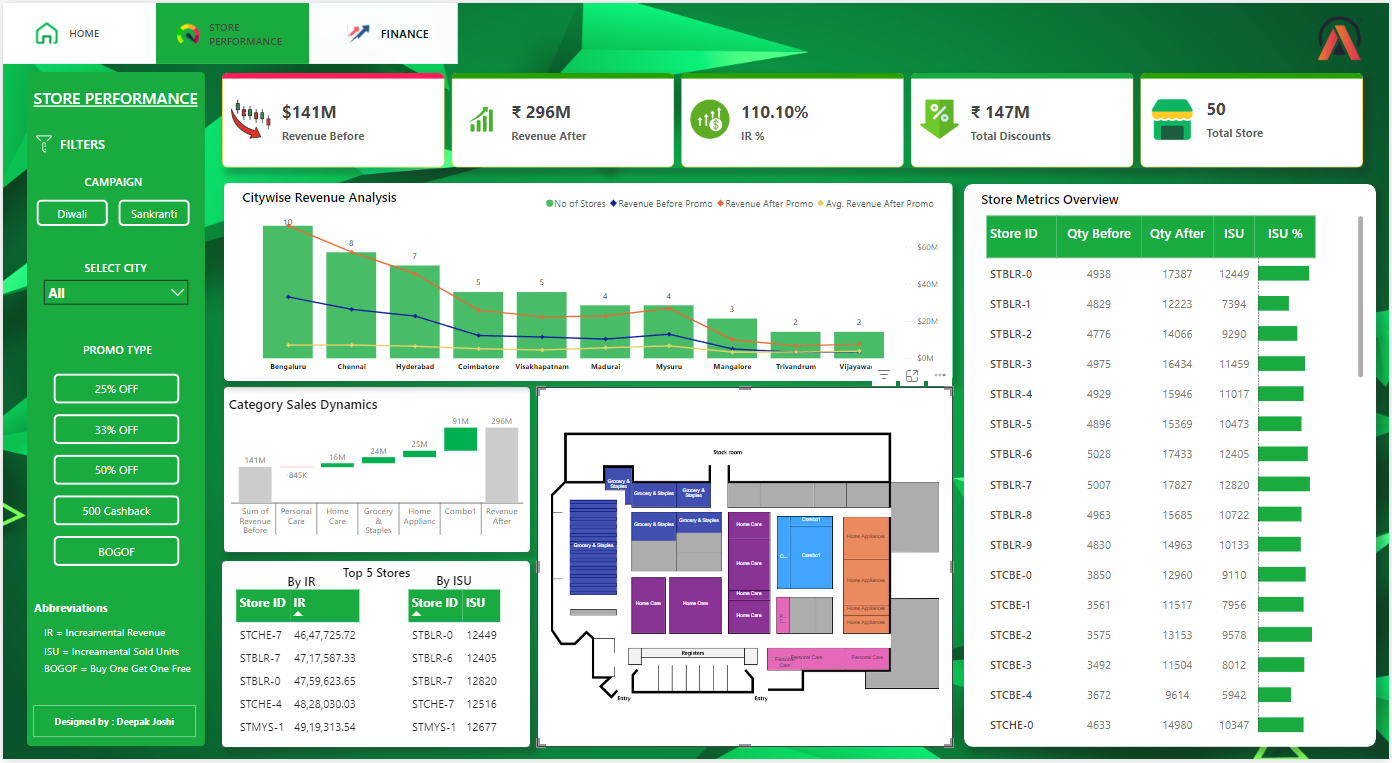

The page's visual inventory and layout, read from the dashboard file:
{"tool":"powerbi","page":{"name":"Store Performance","canvas":[1980,1080],"ordinal":1},"visuals":[{"type":"shape","box":[34.4,98.9,254.4,963.3],"z":0},{"type":"shape","box":[316,763,573,298],"z":1000},{"type":"shape","box":[42,352,235,97],"z":2000},{"type":"shape","box":[1378,258,566,804],"z":3000},{"type":"shape","box":[315.7,257.1,1014.3,490],"z":4000},{"type":"shape","box":[44.4,845.7,234.4,34.4],"z":5000},{"type":"shape","box":[39,471,241,355],"z":6000},{"type":"shape","box":[81.1,174.6,71.1,52.8],"z":7000},{"type":"shape","box":[58.2,885.8,217.5,23.5],"z":8000},{"type":"shape","box":[58.2,913.5,218.5,23.2],"z":9000},{"type":"image","box":[39,181.2,39.5,39.6],"z":10000},{"type":"advancedSlicerVisual","fields":{"Values":["fact_events.promo_type"]},"box":[66.5,523.9,190.9,285.5],"z":11000},{"type":"shape","box":[78.1,476.9,170,34.4],"z":12000},{"type":"slicer","title":"SELECT CITY","fields":{"Values":["dim_stores.city"]},"box":[374,449,244,7],"z":13000},{"type":"shape","box":[41.1,238.6,234.5,97.3],"z":14000},{"type":"advancedSlicerVisual","fields":{"Values":["dim_campaigns.campaign_name"]},"box":[43.3,275.8,229.2,48.3],"z":15000},{"type":"shape","box":[72.1,241.4,170,27.1],"z":16000},{"type":"shape","box":[58.3,936.7,219.2,23.3],"z":17000},{"type":"shape","box":[318.3,268.3,260,41.7],"z":18000},{"type":"shape","box":[43.3,1002.5,232.5,45.8],"z":19000},{"type":"lineStackedColumnComboChart","fields":{"Y":["CountNonNull(dim_stores.store_id)"],"Y2":["Sum(fact_events.Revenue Before)","Sum(fact_events.Actual Revenue)","Key Measures.Avg_Actual_Revenue"],"Category":["dim_stores.city"]},"box":[330,271.4,984.3,470],"z":20000},{"type":"cardVisual","title":"Net Sales","fields":{"Data":["Sum(fact_events.Revenue Before)","Sum(fact_events.Actual Revenue)","Key Measures.IR %","Sum(fact_events.Total Discount)","CountNonNull(dim_stores.store_id)"]},"box":[312.9,100,1631.4,135.7],"z":21000},{"type":"pivotTable","fields":{"Rows":["dim_stores.store_id"],"Values":["Sum(fact_events.quantity_sold(before_promo))","Sum(fact_events.Quantity_Sold)","Key Measures.ISU","Key Measures.ISU %"]},"box":[1391.4,300,540,747.1],"z":22000},{"type":"shape","box":[313,772,245,23],"z":23000},{"type":"shape","box":[1355.7,257.1,280,44.3],"z":24000},{"type":"image","box":[1858.6,12.9,102.9,74.3],"z":25000},{"type":"shape","box":[43.1,114.4,235.6,41.2],"z":26000},{"type":"shape","box":[-1.4,0,651.4,87.1],"z":27000},{"type":"actionButton","box":[-1.8,0,220,85.9],"z":28000},{"type":"actionButton","box":[436.1,0,213.9,87.2],"z":29000},{"type":"actionButton","box":[218,0,218.7,87.3],"z":30000},{"type":"SimpleWaterfall","fields":{"category":["dim_products.category"],"measure":["Sum(fact_events.Revenue Before)","Sum(fact_events.Actual Revenue)"]},"box":[313,810,576,237],"z":31000},{"type":"shape","box":[75,364,170,28],"z":32000},{"type":"slicer","fields":{"Values":["dim_stores.city"]},"box":[48,386,226,57],"z":33000},{"type":"shape","box":[899,763,431,297],"z":34000},{"type":"tableEx","fields":{"Values":["dim_stores.store_id","Key Measures.IR"]},"box":[908.6,820,227.1,227.1],"z":35000},{"type":"tableEx","fields":{"Values":["dim_stores.store_id","Key Measures.ISU"]},"box":[1151.4,820,162.9,227.1],"z":36000},{"type":"shape","box":[915.7,795.7,175.7,27.1],"z":37000},{"type":"shape","box":[1151.4,797.1,140,28.6],"z":38000},{"type":"shape","box":[990,768.6,227.1,25.7],"z":39000}]}

Visuals, with their boxes in screenshot pixels (x1, y1, x2, y2), scaled from the page's 1980x1080 canvas onto the 1392x763 screenshot:
shape: [x1=24, y1=70, x2=203, y2=750]
shape: [x1=222, y1=539, x2=625, y2=750]
shape: [x1=30, y1=249, x2=195, y2=317]
shape: [x1=969, y1=182, x2=1367, y2=750]
shape: [x1=222, y1=182, x2=935, y2=528]
shape: [x1=31, y1=597, x2=196, y2=622]
shape: [x1=27, y1=333, x2=197, y2=584]
shape: [x1=57, y1=123, x2=107, y2=161]
shape: [x1=41, y1=626, x2=194, y2=642]
shape: [x1=41, y1=645, x2=195, y2=662]
image: [x1=27, y1=128, x2=55, y2=156]
advancedSlicerVisual - fact_events.promo_type: [x1=47, y1=370, x2=181, y2=572]
shape: [x1=55, y1=337, x2=174, y2=361]
"SELECT CITY" slicer: [x1=263, y1=317, x2=434, y2=322]
shape: [x1=29, y1=169, x2=194, y2=237]
advancedSlicerVisual - dim_campaigns.campaign_name: [x1=30, y1=195, x2=192, y2=229]
shape: [x1=51, y1=171, x2=170, y2=190]
shape: [x1=41, y1=662, x2=195, y2=678]
shape: [x1=224, y1=190, x2=407, y2=219]
shape: [x1=30, y1=708, x2=194, y2=741]
lineStackedColumnComboChart - CountNonNull(dim_stores.store_id) x Sum(fact_events.Revenue Before): [x1=232, y1=192, x2=924, y2=524]
"Net Sales" cardVisual: [x1=220, y1=71, x2=1367, y2=167]
pivotTable - dim_stores.store_id x Sum(fact_events.quantity_sold(before_promo)): [x1=978, y1=212, x2=1358, y2=740]
shape: [x1=220, y1=545, x2=392, y2=562]
shape: [x1=953, y1=182, x2=1150, y2=213]
image: [x1=1307, y1=9, x2=1379, y2=62]
shape: [x1=30, y1=81, x2=196, y2=110]
shape: [x1=0, y1=0, x2=457, y2=62]
actionButton: [x1=0, y1=0, x2=153, y2=61]
actionButton: [x1=307, y1=0, x2=457, y2=62]
actionButton: [x1=153, y1=0, x2=307, y2=62]
SimpleWaterfall - dim_products.category x Sum(fact_events.Revenue Before): [x1=220, y1=572, x2=625, y2=740]
shape: [x1=53, y1=257, x2=172, y2=277]
slicer - dim_stores.city: [x1=34, y1=273, x2=193, y2=313]
shape: [x1=632, y1=539, x2=935, y2=749]
tableEx - dim_stores.store_id x Key Measures.IR: [x1=639, y1=579, x2=798, y2=740]
tableEx - dim_stores.store_id x Key Measures.ISU: [x1=809, y1=579, x2=924, y2=740]
shape: [x1=644, y1=562, x2=767, y2=581]
shape: [x1=809, y1=563, x2=908, y2=583]
shape: [x1=696, y1=543, x2=856, y2=561]
